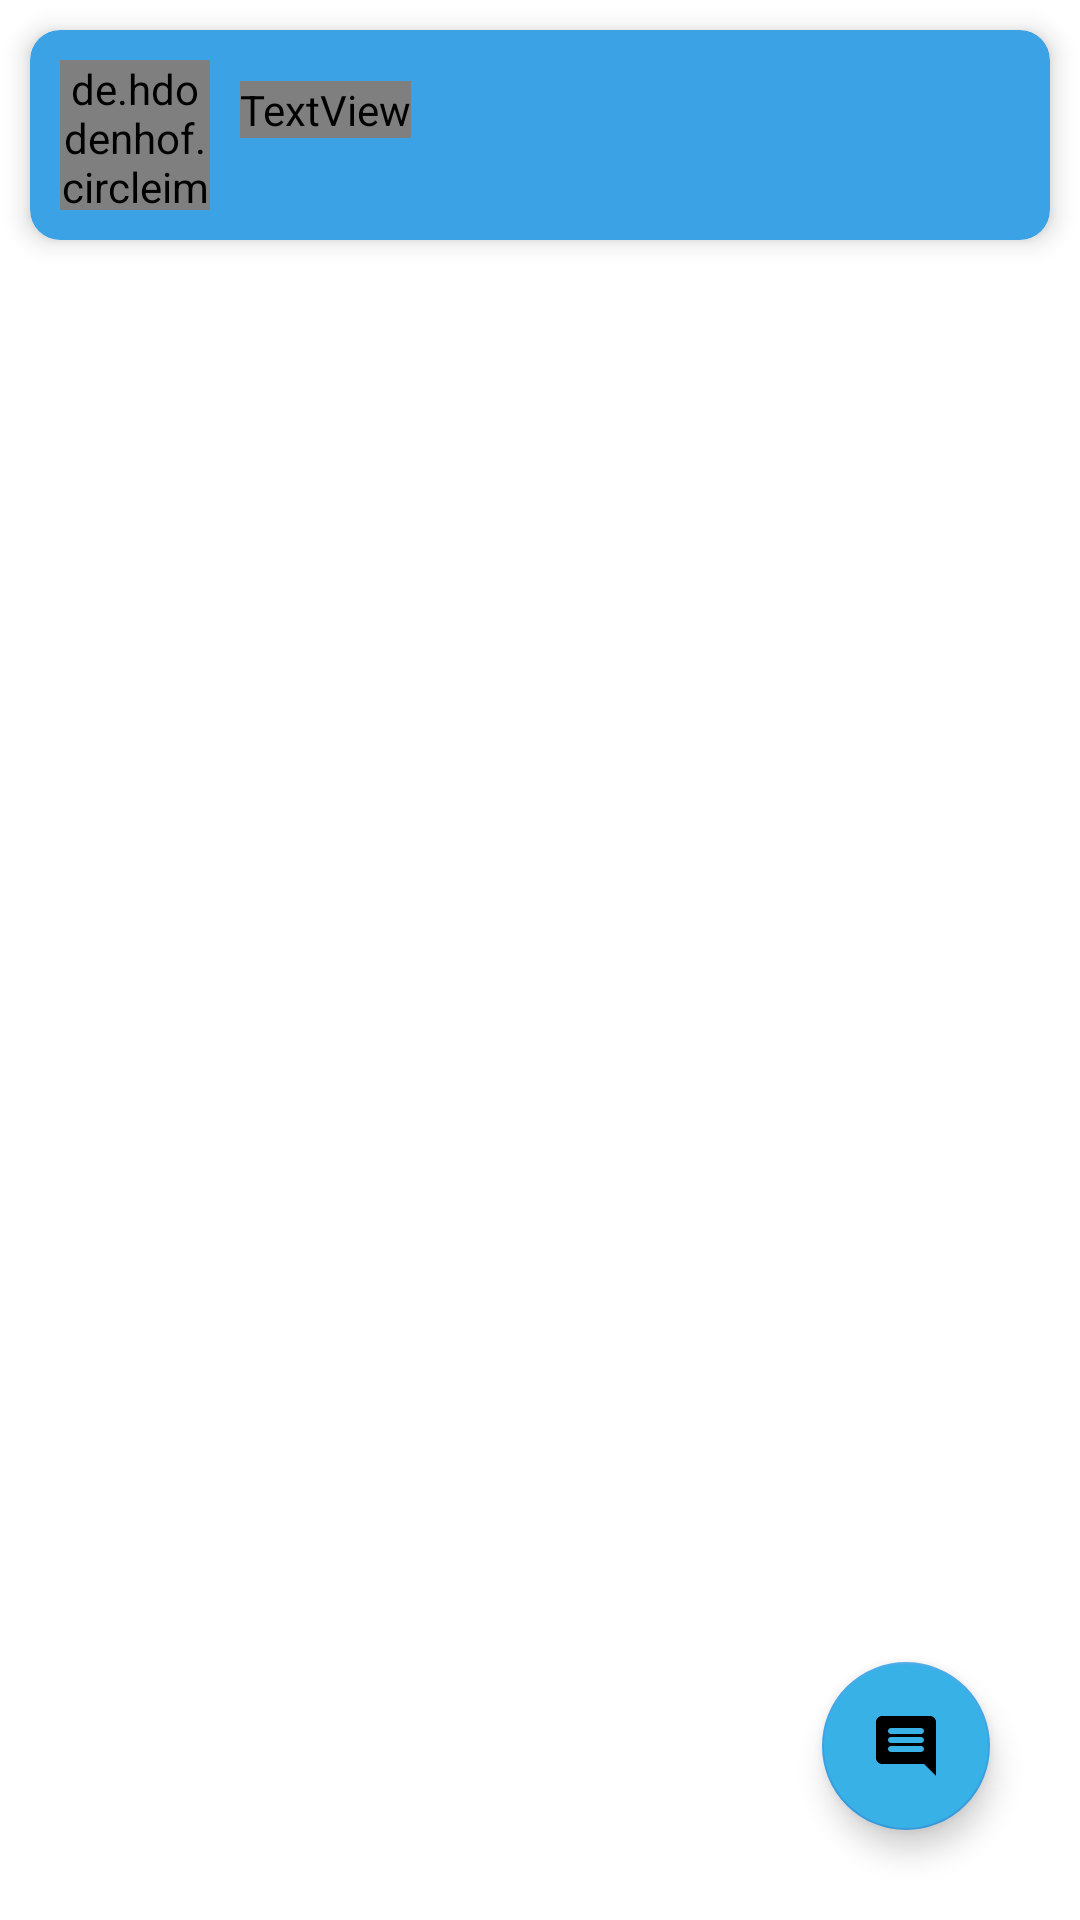

Where to tap for icons on this 1080w x 1920h app screen, as (x,y):
message: (906,1746)
